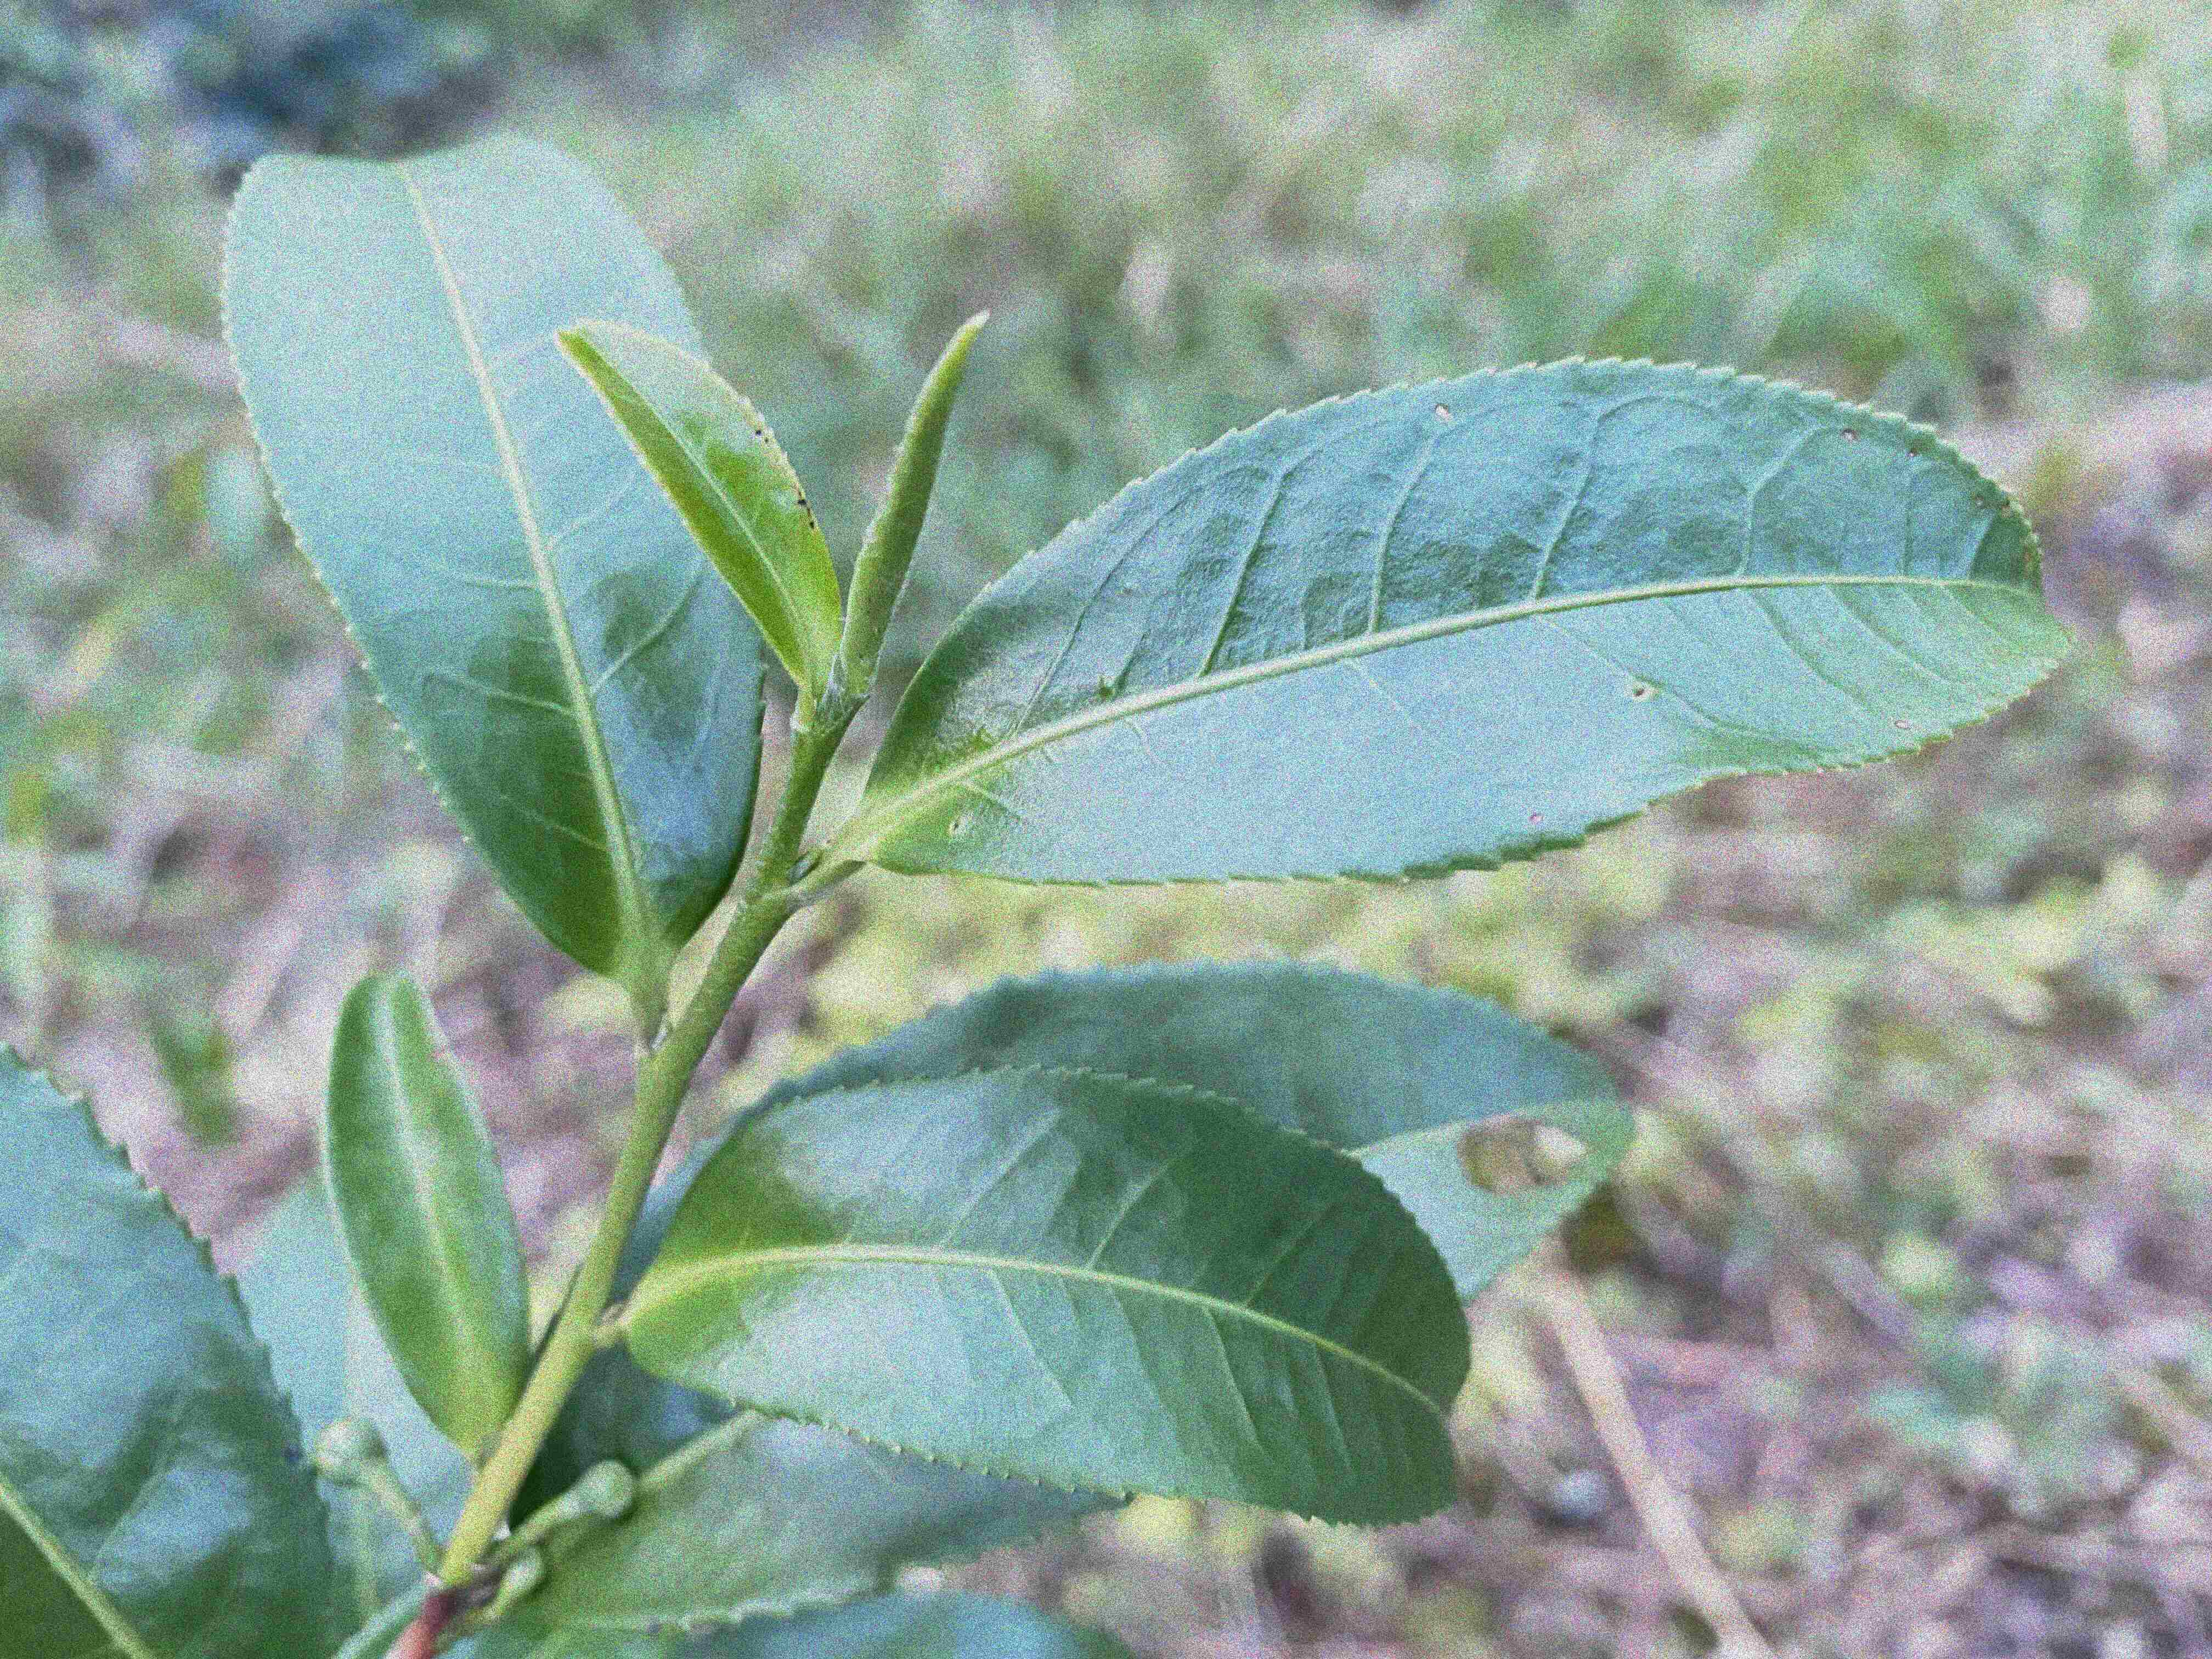healthy: (214, 136, 765, 985), (632, 1066, 1470, 1528)
tanju_low: (862, 350, 2078, 889), (554, 322, 841, 697), (320, 967, 531, 1455)
